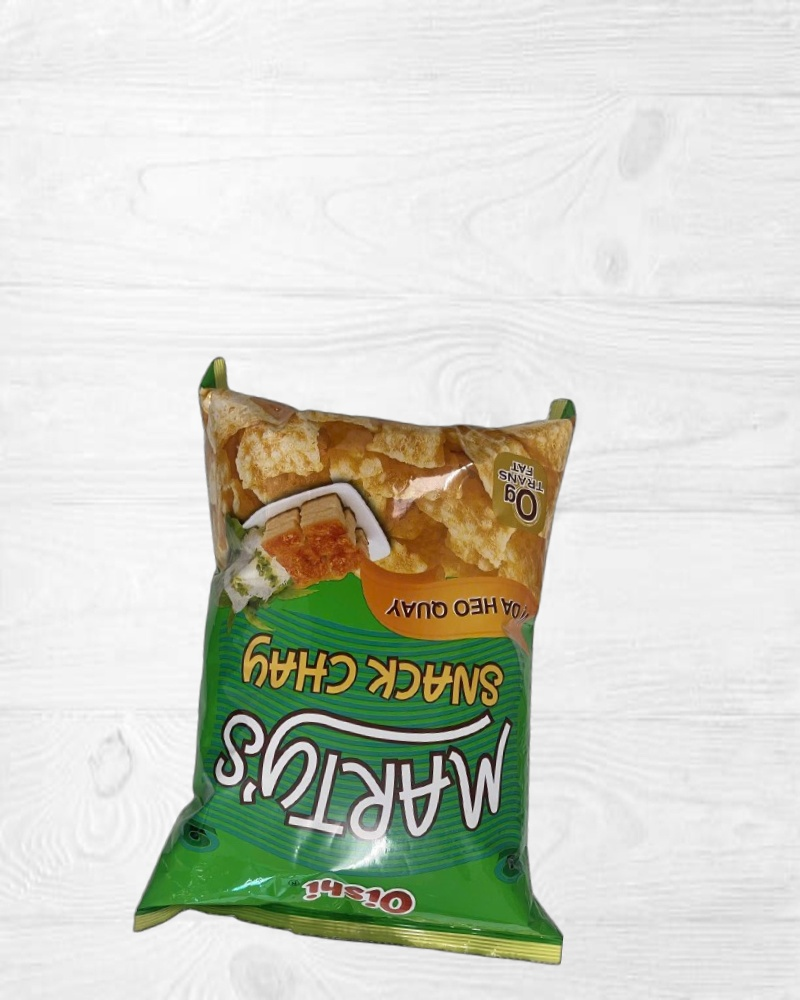Snack chay: (154, 358, 610, 970)
